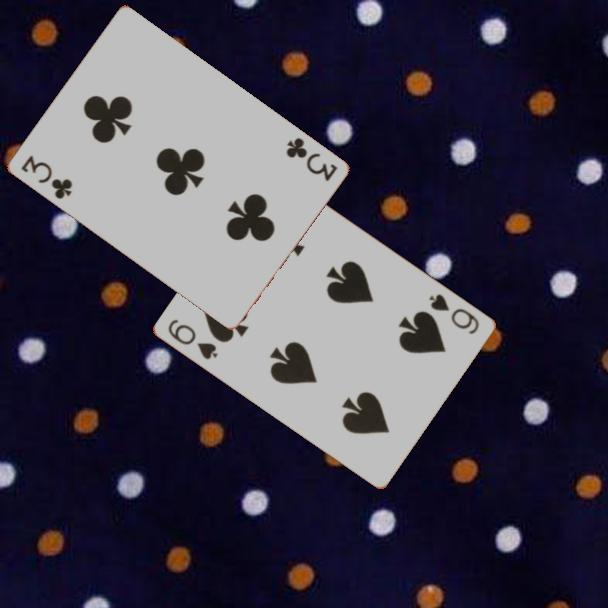c03: (17, 151, 75, 202), (282, 134, 340, 184)
s06: (425, 290, 483, 337), (165, 315, 221, 363)
